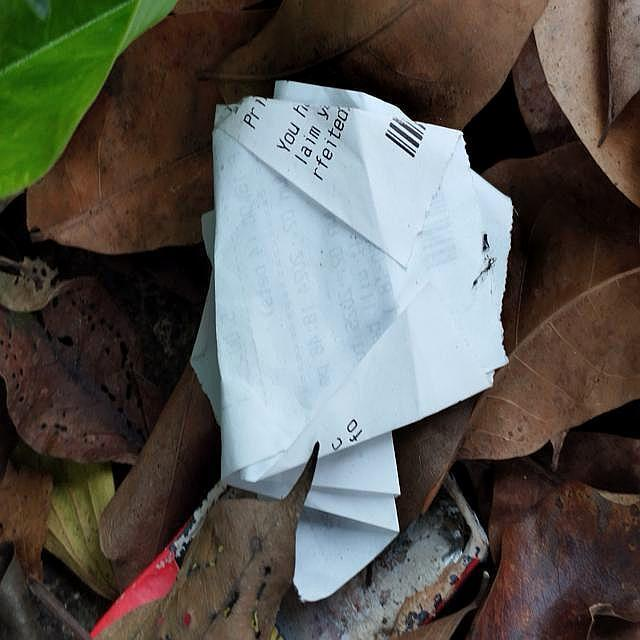Biodegradable: (203, 80, 506, 554)
